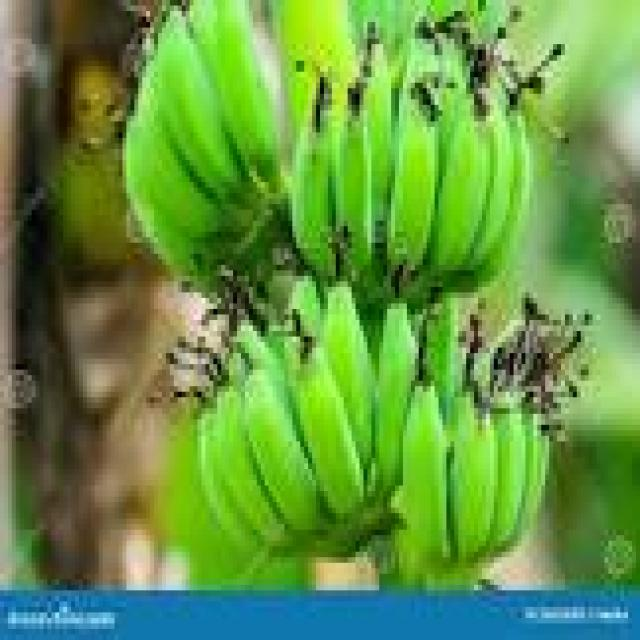banana: (151, 6, 240, 198), (190, 0, 280, 187), (127, 61, 221, 237), (123, 122, 213, 292), (241, 370, 319, 529), (210, 387, 288, 546), (427, 83, 489, 281), (293, 343, 363, 518), (388, 34, 438, 270), (273, 0, 355, 143), (471, 111, 533, 286), (320, 282, 375, 474), (396, 381, 450, 568), (198, 409, 264, 562), (388, 83, 438, 270), (447, 392, 497, 562), (332, 78, 375, 275), (293, 78, 335, 275), (467, 94, 513, 270), (376, 304, 418, 496), (364, 34, 395, 220), (490, 409, 525, 551), (423, 293, 462, 419), (234, 320, 288, 391), (518, 414, 549, 535), (289, 276, 323, 336)
